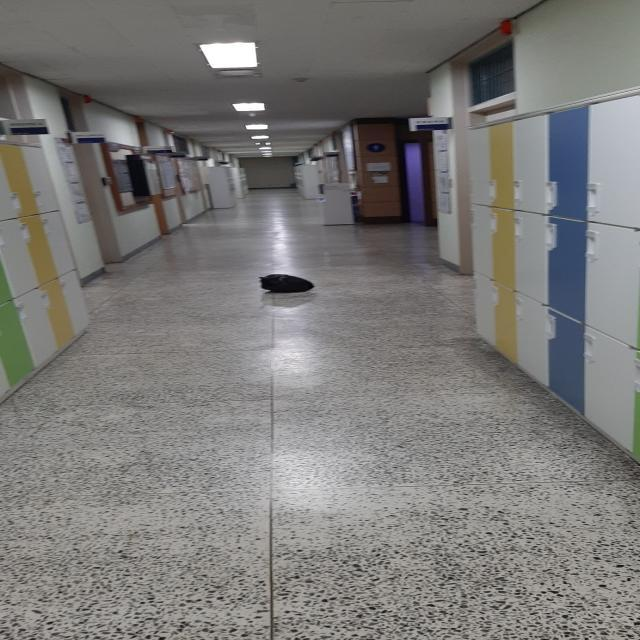black_bag: (258, 272, 315, 300)
